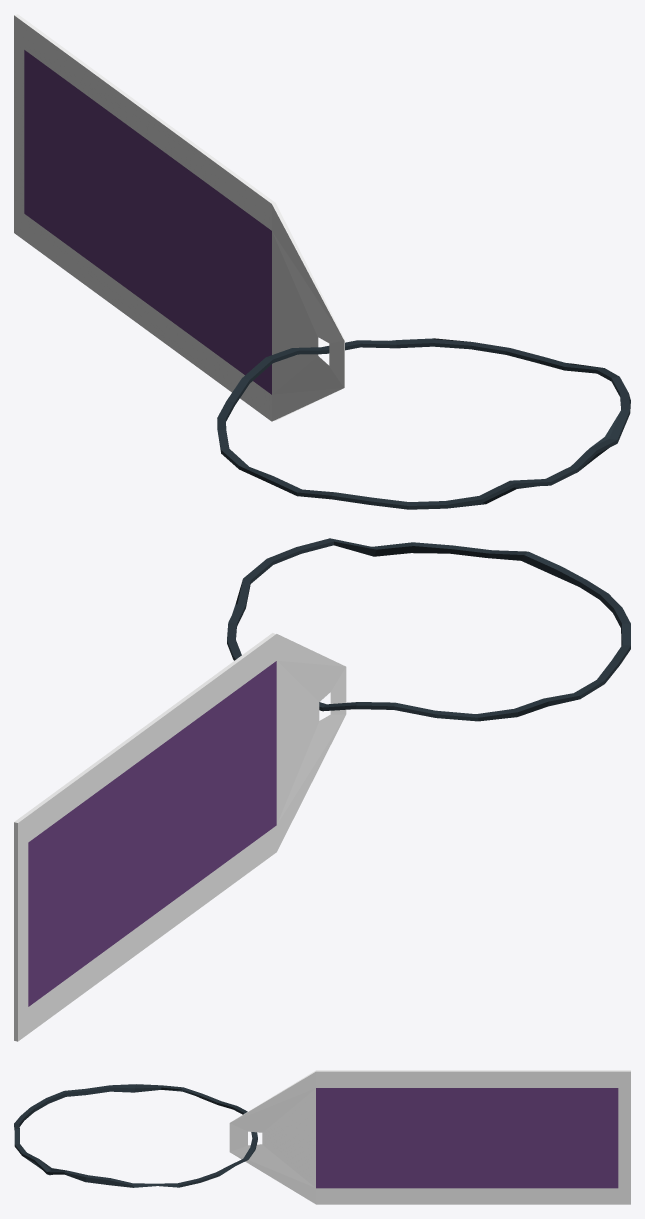
The model's file is PurpleFlatpointTag.fbx.
3 views of the same model, one above another, from view 1: azimuth 30°, elevation 25°; view 2: azimuth 150°, elevation 25°; view 3: azimuth 270°, elevation 25° (orthographic). The views are drawn at different scales.
Parts seen in each view (by area): view 1: RectangleFlatPointTag.001; view 2: RectangleFlatPointTag.001; view 3: RectangleFlatPointTag.001.
Boxes of the visible parts, x1,y1,x2,y2 form: RectangleFlatPointTag.001: (14, 14, 630, 509); RectangleFlatPointTag.001: (14, 538, 630, 1041); RectangleFlatPointTag.001: (14, 1070, 630, 1204).
Size of the model in its own units: 55.68 by 31.91 by 134.
